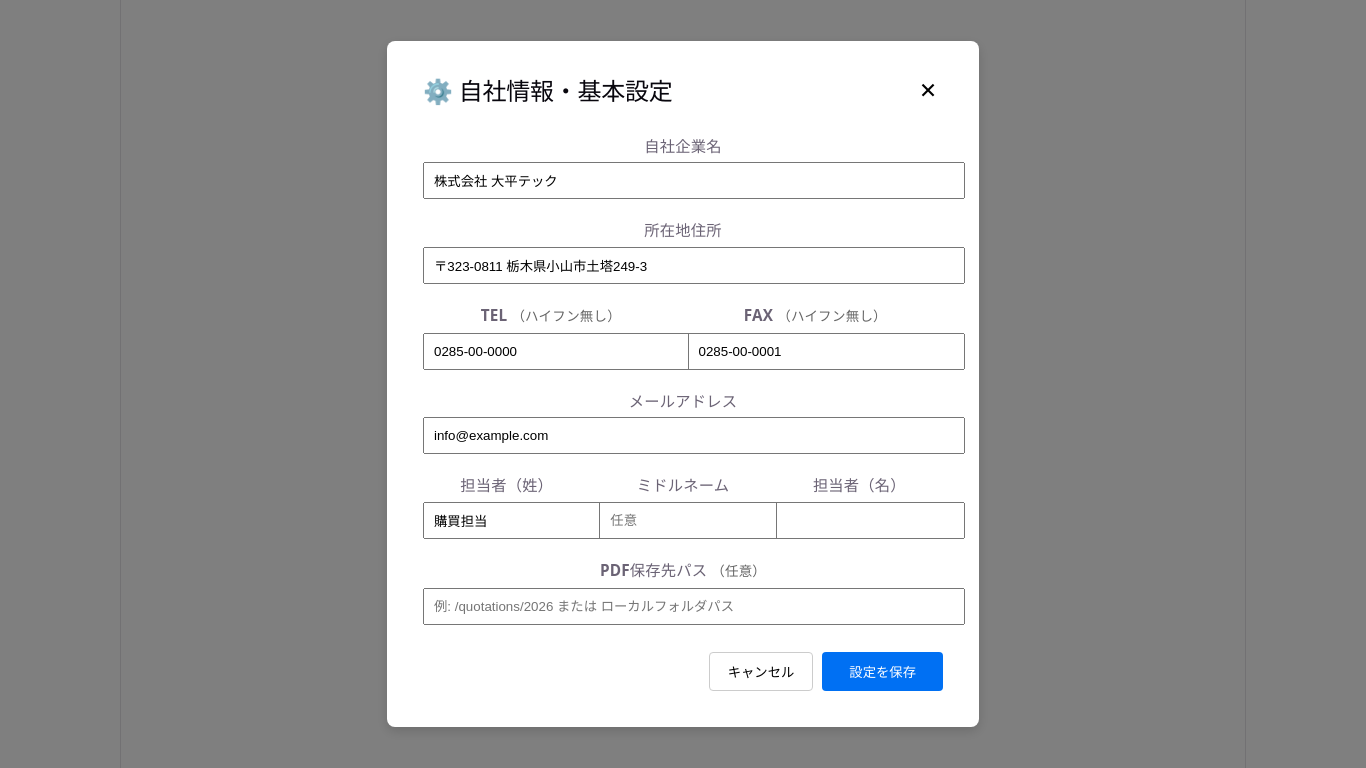
Test case: Phase 9 コンポーネント単体検証テスト › SettingsModal: 自社設定の入力と保存
Click the button "設定を保存" at (883,671), box top-left (822, 652), bottom-right (943, 691)
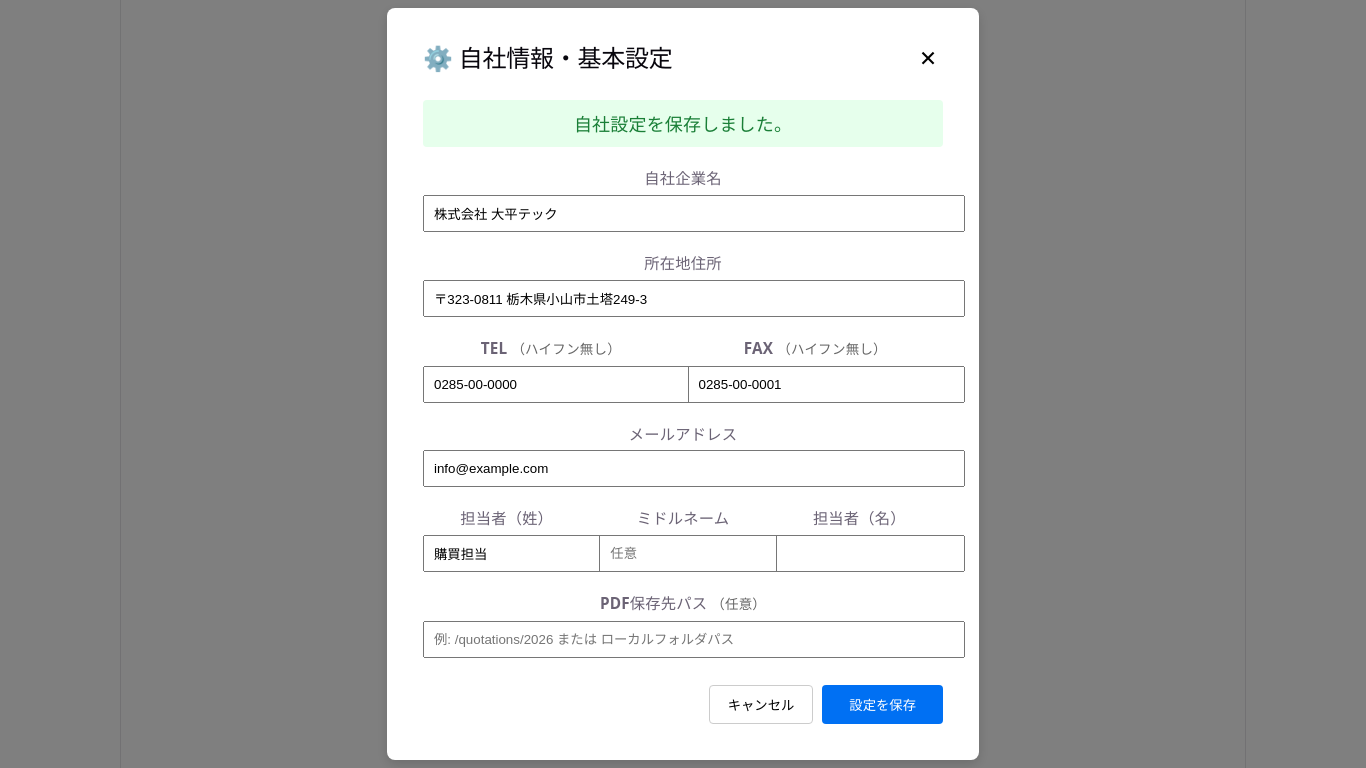
Result: the text "自社設定を保存しました。" is shown at top-left (423, 100), bottom-right (943, 148)
